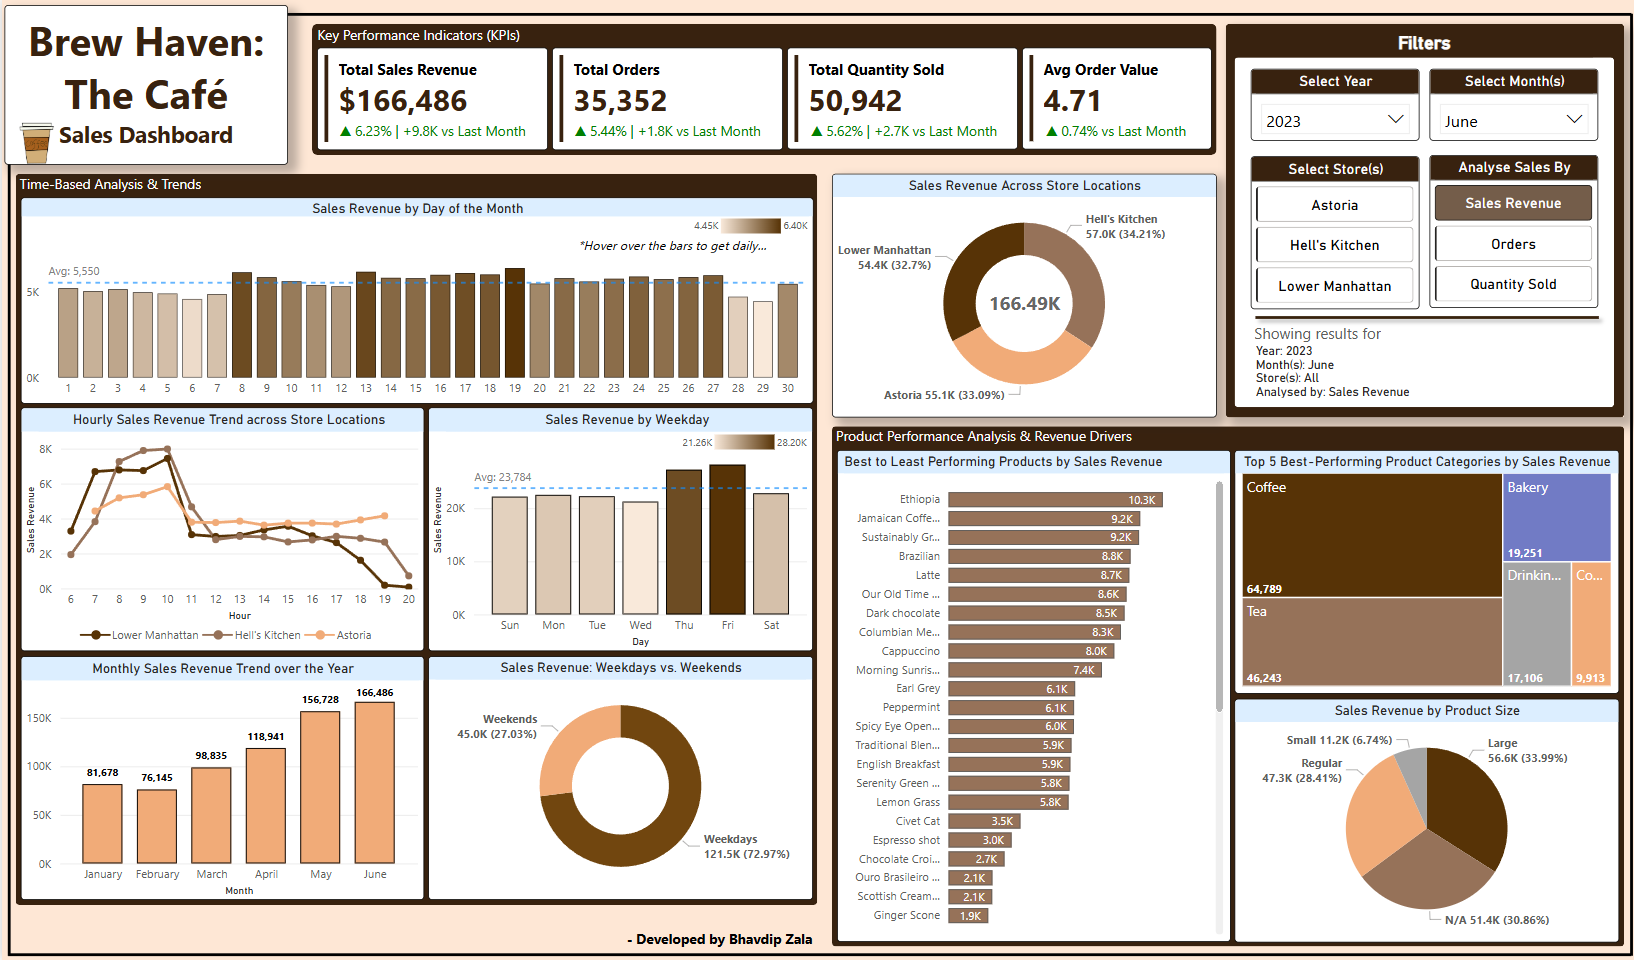

This screenshot's page, from the dashboard's own definition file:
{"tool":"powerbi","page":{"name":"Dashboard","canvas":[1745,1025],"ordinal":0},"visuals":[{"type":"shape","box":[0,166.2,15.4,853],"z":0},{"type":"shape","box":[300,5,1438,20],"z":1000},{"type":"shape","box":[1305,25,425,420],"z":2000},{"type":"shape","box":[885,455,845,555],"z":3000},{"type":"shape","box":[15,185,855,780],"z":4000},{"type":"textbox","box":[3,5,302,170],"z":5000},{"type":"shape","title":"Key Performance Indicators (KPIs)","box":[330,25,965,140],"z":6000},{"type":"image","box":[0,115,70,75],"z":7000},{"type":"cardVisual","fields":{"Data":["Measures_.Avg Quantity Ordered"]},"box":[837,51,246,109],"z":8000},{"type":"donutChart","fields":{"Y":["Measures_.testkpi"],"Category":["dim_dates.weekday_or_weekend"]},"box":[455,700,410,260],"z":9000},{"type":"cardVisual","fields":{"Data":["Measures_.Avg Order Value"]},"box":[1088,51.1,202,108.9],"z":10000},{"type":"lineChart","fields":{"Series":["dim_stores.store_location"],"Category":["fact_transactions.Hour"],"Y":["Measures_.testkpi"]},"box":[20,435,430,260],"z":11000},{"type":"cardVisual","fields":{"Data":["Measures_.Total Transactions"]},"box":[586,50.6,246,109.4],"z":12000},{"type":"columnChart","fields":{"Category":["dim_dates.weekday_name"],"Y":["Measures_.testkpi"]},"box":[455,435,410,260],"z":13000},{"type":"cardVisual","fields":{"Data":["Measures_.Total Sales Revenue"]},"box":[335.8,50,246,109.4],"z":14000},{"type":"clusteredColumnChart","fields":{"Category":["dim_dates.month_name"],"Y":["Measures_.testkpi"]},"box":[20,700,430,260],"z":15000},{"type":"cardVisual","fields":{"Data":["Measures_.Month on Month Sales Revenue"]},"box":[360,121.3,232.4,31.6],"z":16000},{"type":"cardVisual","fields":{"Data":["Measures_.MoM Sales Orders"]},"box":[611,121,232.2,31],"z":17000},{"type":"donutChart","fields":{"Category":["dim_stores.store_location"],"Y":["Measures_.testkpi"]},"box":[885,185,410,260],"z":18000},{"type":"cardVisual","fields":{"Data":["Measures_.MoM AOV"]},"box":[1113,121,174.4,31],"z":19000},{"type":"columnChart","fields":{"Category":["dim_dates.Date.Variation.Date Hierarchy.Day"],"Y":["Measures_.testkpi"]},"box":[20,210,845.7,220],"z":20000},{"type":"cardVisual","fields":{"Data":["Measures_.MoM AQO"]},"box":[862,121,232,31],"z":21000},{"type":"barChart","fields":{"Category":["dim_products.product_detail"],"Y":["Measures_.testkpi"]},"box":[890,480,420,525],"z":22000},{"type":"treemap","fields":{"Group":["dim_products.product_category"],"Values":["Measures_.testkpi"]},"box":[1315,480,410,260],"z":23000},{"type":"pieChart","fields":{"Category":["dim_products.product_size"],"Y":["Measures_.testkpi"]},"box":[1315,745,410,260],"z":24000},{"type":"shape","title":"Filters","box":[1315,35,405,400],"z":25000},{"type":"slicer","title":"Select Year","fields":{"Values":["dim_dates.year"]},"box":[1332,73,180,77],"z":26000},{"type":"advancedSlicerVisual","title":"Select Store(s)","fields":{"Values":["dim_stores.store_location"]},"box":[1332,166,180,162.9],"z":27000},{"type":"advancedSlicerVisual","title":"Analyse Sales By","fields":{"Values":["selected_metric.Analyse Sales By"]},"box":[1522.9,165.7,180,162.9],"z":28000},{"type":"shape","box":[614,252,251,18],"z":29000},{"type":"card","fields":{"Values":["Measures_.testkpi"]},"box":[1034,293,112,62],"z":30000},{"type":"slicer","title":"Select Month(s)","fields":{"Values":["dim_dates.month_name"]},"box":[1523,73,180,77],"z":31000},{"type":"shape","box":[1328.6,318.6,384.3,40],"z":32000},{"type":"cardVisual","title":"Showing results for","fields":{"Data":["Measures_.current filters"]},"box":[1325,346.7,393.3,108.3],"z":33000},{"type":"shape","box":[1253,338.6,300,31.4],"z":34000},{"type":"shape","box":[23.6,495,23.6,119.1],"z":35000},{"type":"shape","box":[458,495,23.6,119.1],"z":36000},{"type":"textbox","box":[635,990,261.4,30],"z":37000},{"type":"shape","box":[1730,14,15,1005],"z":38000},{"type":"shape","box":[6,1010,1731,15.4],"z":39000}]}

Visuals, with their boxes in screenshot pixels (x1, y1, x2, y2), scaled from the page's 1745x1025 canvas onto the 1634x960 screenshot:
shape: bbox=(0, 156, 14, 955)
shape: bbox=(281, 5, 1627, 23)
shape: bbox=(1222, 23, 1620, 417)
shape: bbox=(829, 426, 1620, 946)
shape: bbox=(14, 173, 815, 904)
textbox: bbox=(3, 5, 286, 164)
"Key Performance Indicators (KPIs)" shape: bbox=(309, 23, 1213, 155)
image: bbox=(0, 108, 66, 178)
cardVisual - Measures_.Avg Quantity Ordered: bbox=(784, 48, 1014, 150)
donutChart - Measures_.testkpi x dim_dates.weekday_or_weekend: bbox=(426, 656, 810, 899)
cardVisual - Measures_.Avg Order Value: bbox=(1019, 48, 1208, 150)
lineChart - dim_stores.store_location x fact_transactions.Hour: bbox=(19, 407, 421, 651)
cardVisual - Measures_.Total Transactions: bbox=(549, 47, 779, 150)
columnChart - dim_dates.weekday_name x Measures_.testkpi: bbox=(426, 407, 810, 651)
cardVisual - Measures_.Total Sales Revenue: bbox=(314, 47, 545, 149)
clusteredColumnChart - dim_dates.month_name x Measures_.testkpi: bbox=(19, 656, 421, 899)
cardVisual - Measures_.Month on Month Sales Revenue: bbox=(337, 114, 555, 143)
cardVisual - Measures_.MoM Sales Orders: bbox=(572, 113, 790, 142)
donutChart - dim_stores.store_location x Measures_.testkpi: bbox=(829, 173, 1213, 417)
cardVisual - Measures_.MoM AOV: bbox=(1042, 113, 1206, 142)
columnChart - dim_dates.Date.Variation.Date Hierarchy.Day x Measures_.testkpi: bbox=(19, 197, 811, 403)
cardVisual - Measures_.MoM AQO: bbox=(807, 113, 1024, 142)
barChart - dim_products.product_detail x Measures_.testkpi: bbox=(833, 450, 1227, 941)
treemap - dim_products.product_category x Measures_.testkpi: bbox=(1231, 450, 1615, 693)
pieChart - dim_products.product_size x Measures_.testkpi: bbox=(1231, 698, 1615, 941)
"Filters" shape: bbox=(1231, 33, 1611, 407)
"Select Year" slicer: bbox=(1247, 68, 1416, 140)
"Select Store(s)" advancedSlicerVisual: bbox=(1247, 155, 1416, 308)
"Analyse Sales By" advancedSlicerVisual: bbox=(1426, 155, 1595, 308)
shape: bbox=(575, 236, 810, 253)
card - Measures_.testkpi: bbox=(968, 274, 1073, 332)
"Select Month(s)" slicer: bbox=(1426, 68, 1595, 140)
shape: bbox=(1244, 298, 1604, 336)
"Showing results for" cardVisual: bbox=(1241, 325, 1609, 426)
shape: bbox=(1173, 317, 1454, 347)
shape: bbox=(22, 464, 44, 575)
shape: bbox=(429, 464, 451, 575)
textbox: bbox=(595, 927, 839, 955)
shape: bbox=(1620, 13, 1633, 954)
shape: bbox=(6, 946, 1627, 959)
